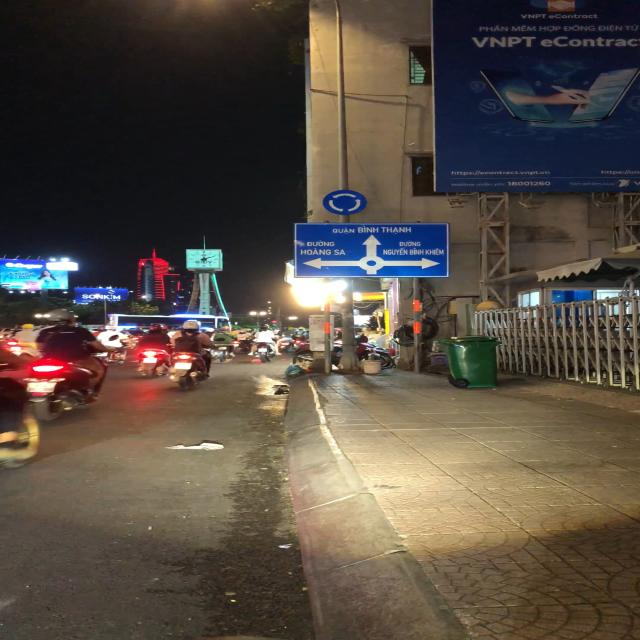Bien bao noi giao nhau chay theo vong xuyen: (322, 190, 370, 217)
